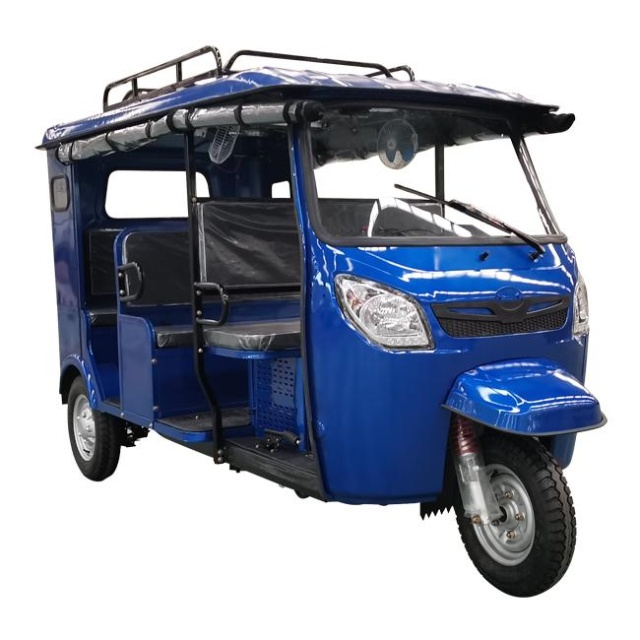Motorcycle: (33, 66, 608, 597)
